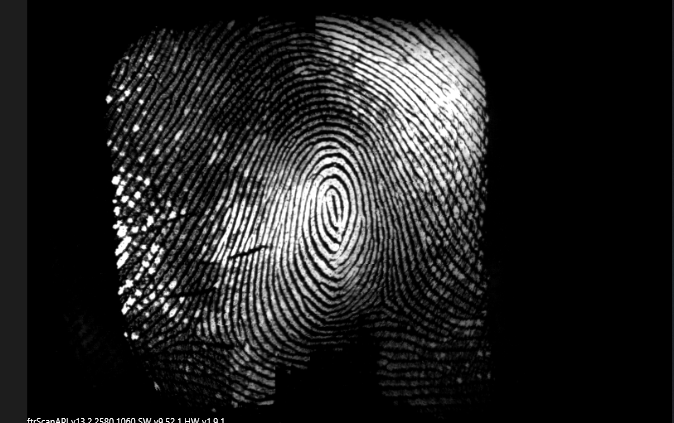deltas: (162, 296, 229, 354), (361, 274, 406, 324)
nucleo: (296, 178, 362, 244)
